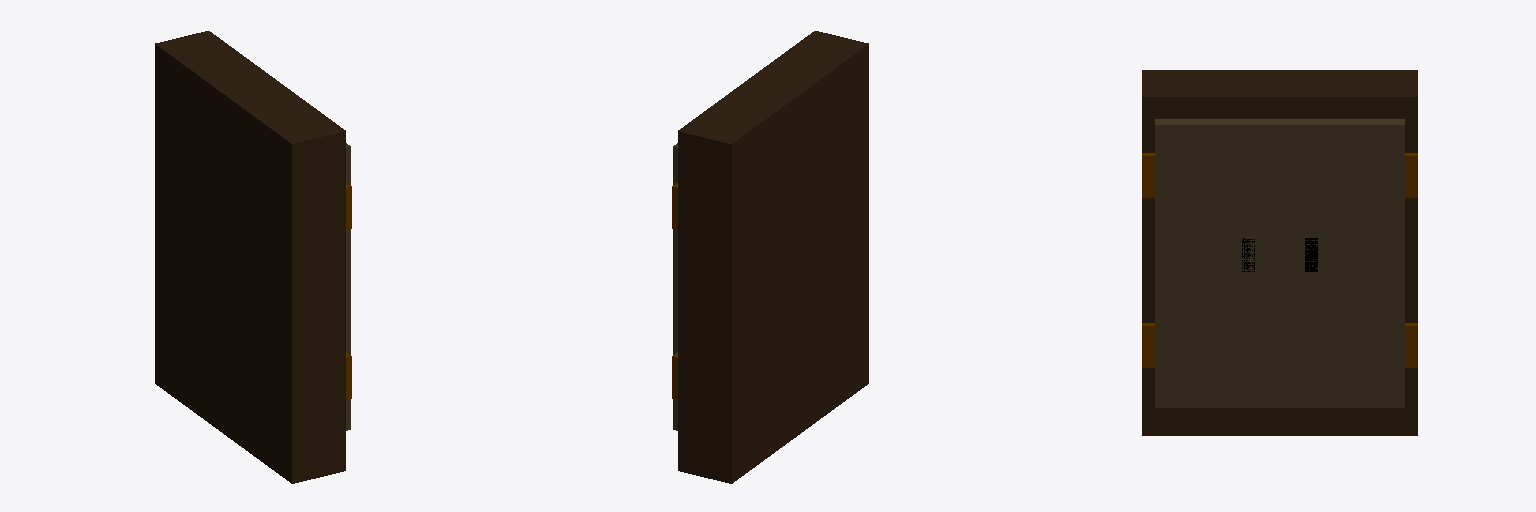
File: doors_closed.obj
The picture shows the model from 3 angles: view 1: azimuth 30°, elevation 25°; view 2: azimuth 150°, elevation 25°; view 3: azimuth 270°, elevation 25°; orthographic projection.
Size of the model in its own units: 48 by 240 by 176.